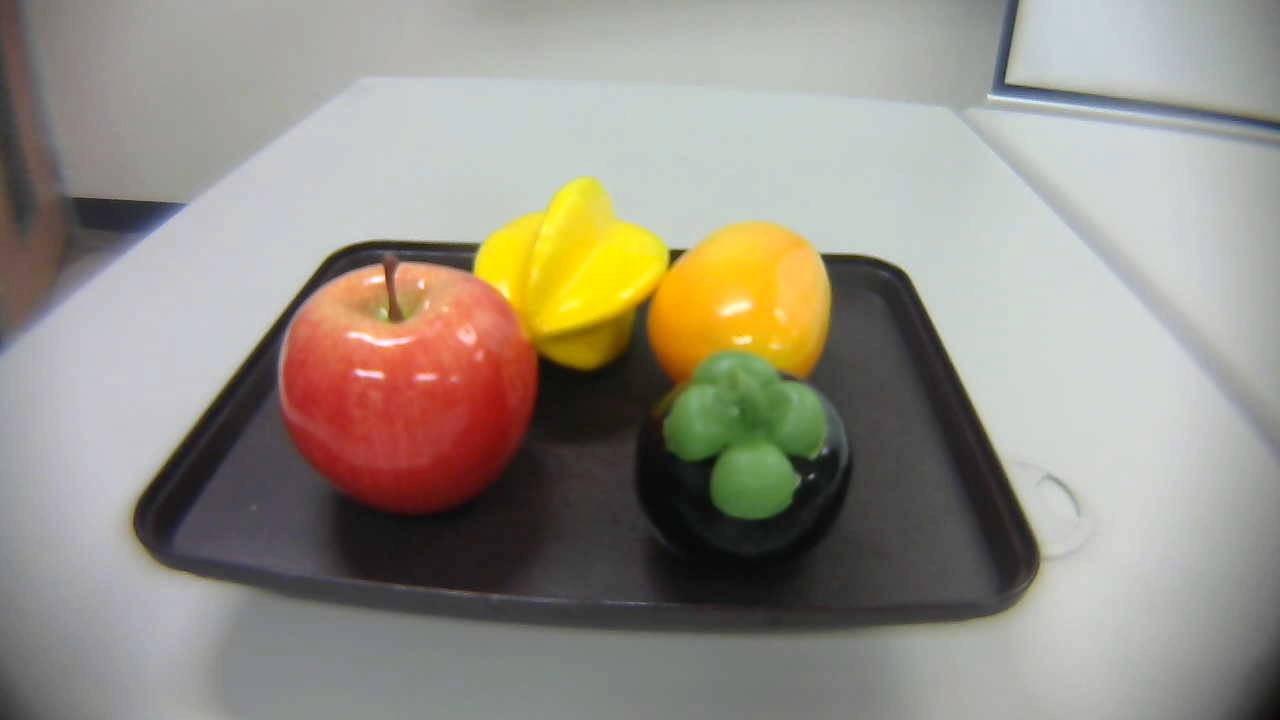mangosteen: (628, 341, 873, 581)
red apple: (267, 248, 540, 523)
star fruit: (477, 178, 675, 388)
yellow mango: (640, 208, 838, 399)
